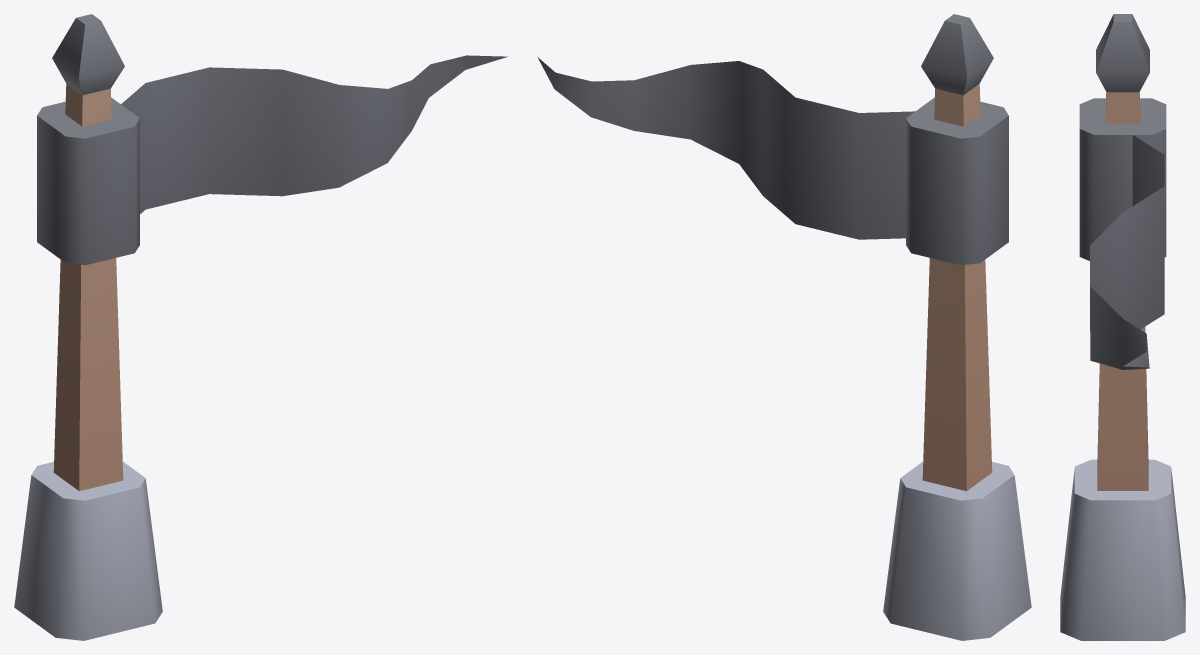
The model's file is flag-pirate-pennant.glb.
3 views of the same model, side by side, from view 1: azimuth 30°, elevation 25°; view 2: azimuth 150°, elevation 25°; view 3: azimuth 270°, elevation 25° (orthographic).
Visible parts, largest first — view 1: flag-pirate-pennant; view 2: flag-pirate-pennant; view 3: flag-pirate-pennant.
Part boxes in pixels (box(x1,y1,x2,y2)): flag-pirate-pennant: box(14, 14, 507, 640); flag-pirate-pennant: box(537, 14, 1031, 640); flag-pirate-pennant: box(1060, 14, 1185, 640).
Size of the model in its own units: 1.76 by 2.1 by 0.3989.
